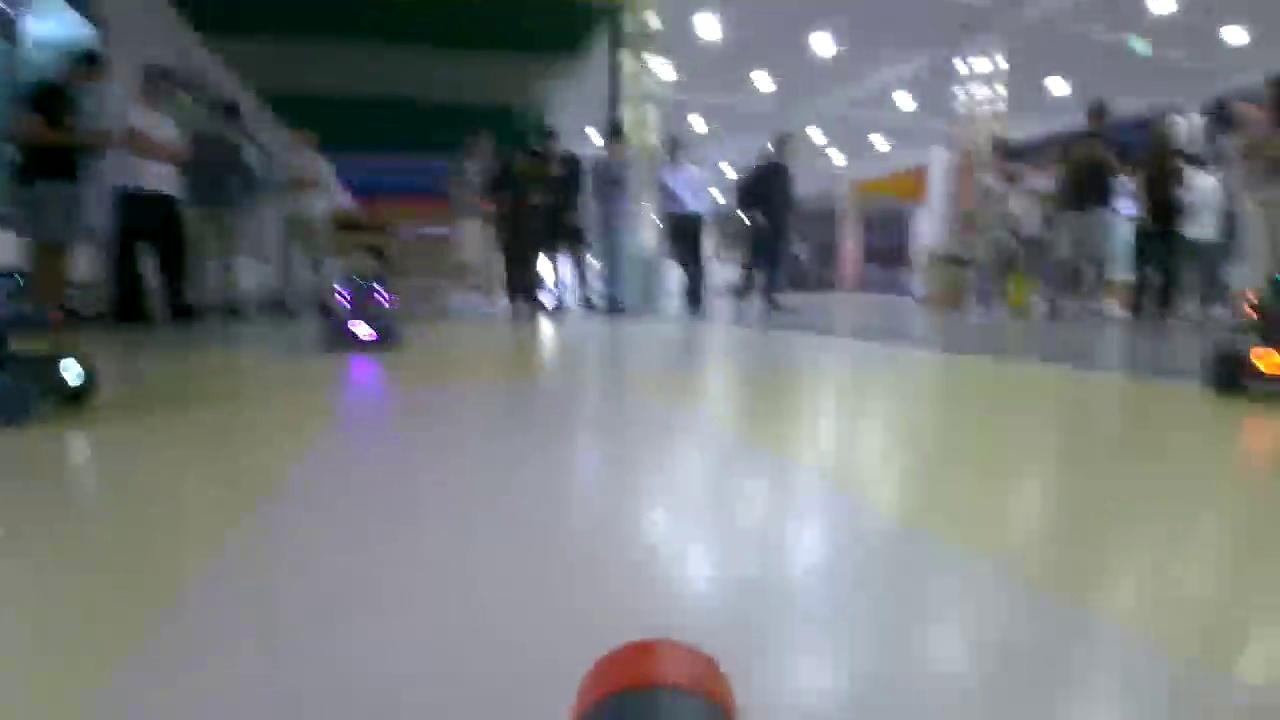robot: (4, 268, 100, 433), (1202, 276, 1280, 392), (322, 268, 400, 348)
